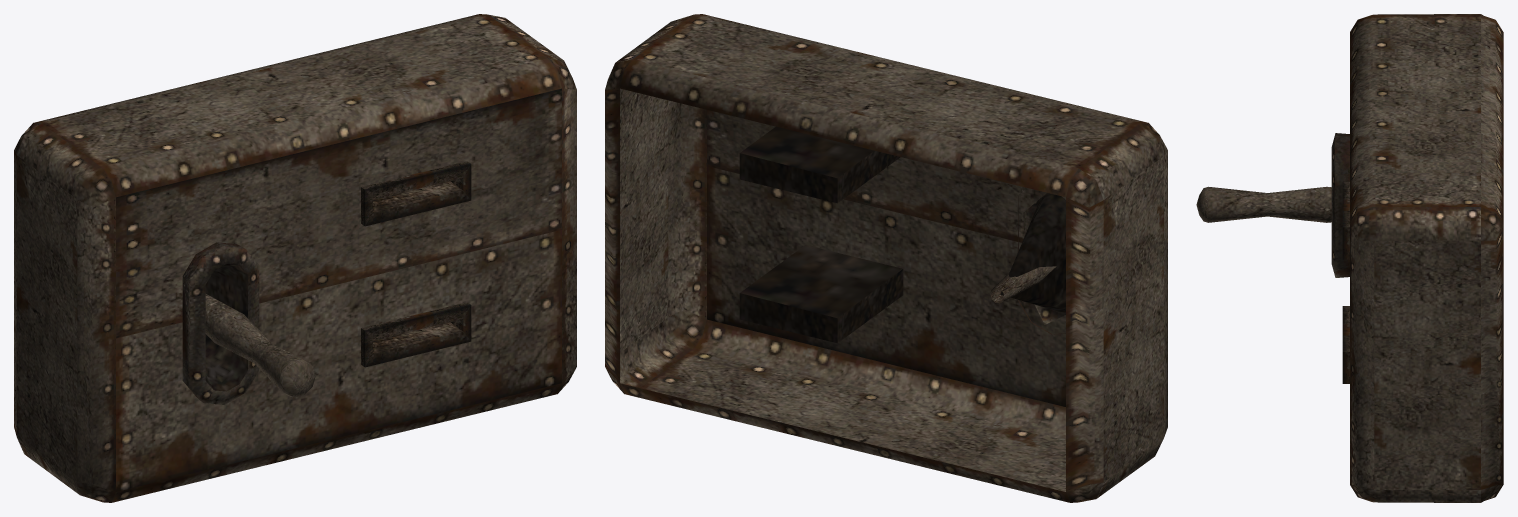
The model's file is slot_machine.dae.
3 renders of one model, left to right at view 1: azimuth 30°, elevation 25°; view 2: azimuth 150°, elevation 25°; view 3: azimuth 270°, elevation 25°, orthographic. The views are drawn at different scales.
Visible parts, largest first — view 1: slot_machine, slot_machine_slots, slot_machine_lever_mount, slot_machine_lever; view 2: slot_machine, slot_machine_lever_mount, slot_machine_lever; view 3: slot_machine, slot_machine_lever, slot_machine_lever_mount, slot_machine_slots.
Boxes of the visible parts, x1,y1,x2,y2 form: slot_machine: [14, 14, 576, 502]; slot_machine_slots: [361, 161, 471, 367]; slot_machine_lever_mount: [182, 242, 259, 404]; slot_machine_lever: [205, 294, 315, 397]; slot_machine: [605, 14, 1167, 502]; slot_machine_lever_mount: [1000, 190, 1065, 334]; slot_machine_lever: [990, 266, 1056, 303]; slot_machine: [1350, 14, 1503, 502]; slot_machine_lever: [1196, 186, 1331, 222]; slot_machine_lever_mount: [1331, 133, 1349, 277]; slot_machine_slots: [1342, 181, 1349, 383].
Size of the model in its own units: 1.31 by 0.8464 by 0.7985.
